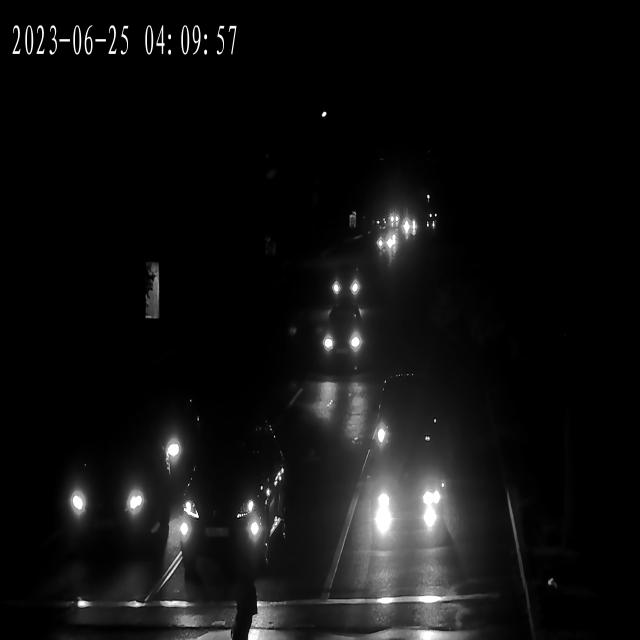Car: (52, 440, 172, 557), (167, 467, 279, 569), (368, 436, 451, 559), (358, 389, 446, 459), (318, 305, 374, 362), (328, 269, 366, 302), (375, 232, 398, 252), (400, 219, 418, 234)
